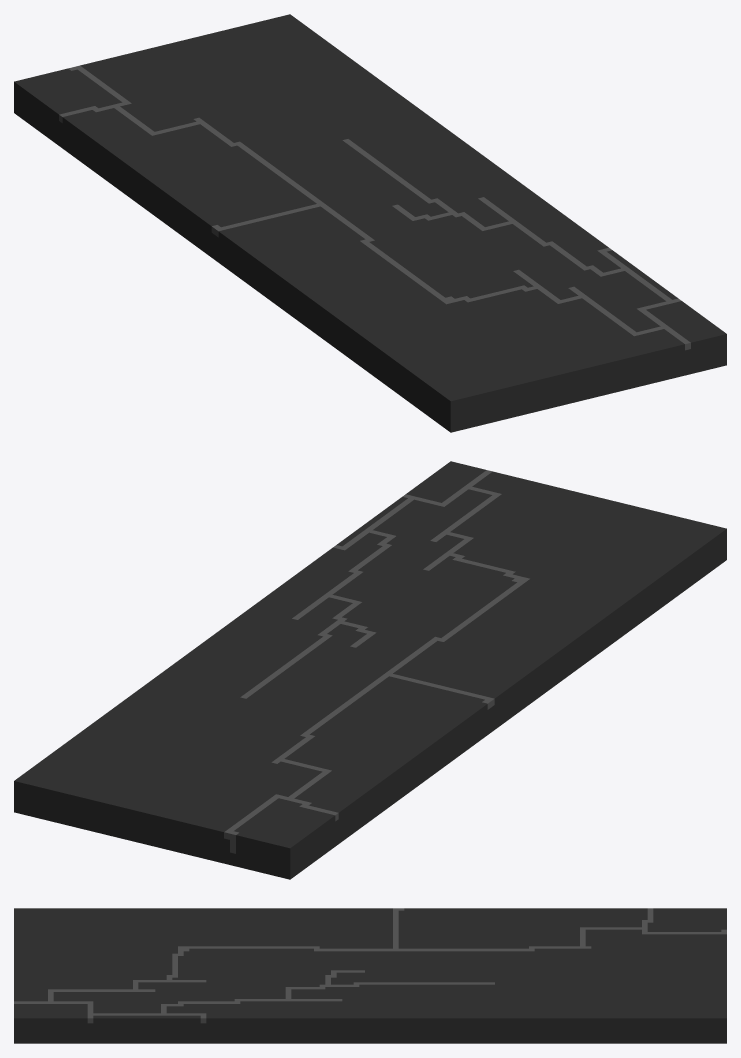
The model's file is polku.obj.
3 renders of one model, top to bottom at view 1: azimuth 30°, elevation 25°; view 2: azimuth 150°, elevation 25°; view 3: azimuth 270°, elevation 25°, orthographic. The views are drawn at different scales.
Bounding box in the file's own units: 4.6 × 0.5 × 12.6.
1 material, 1 textured.
